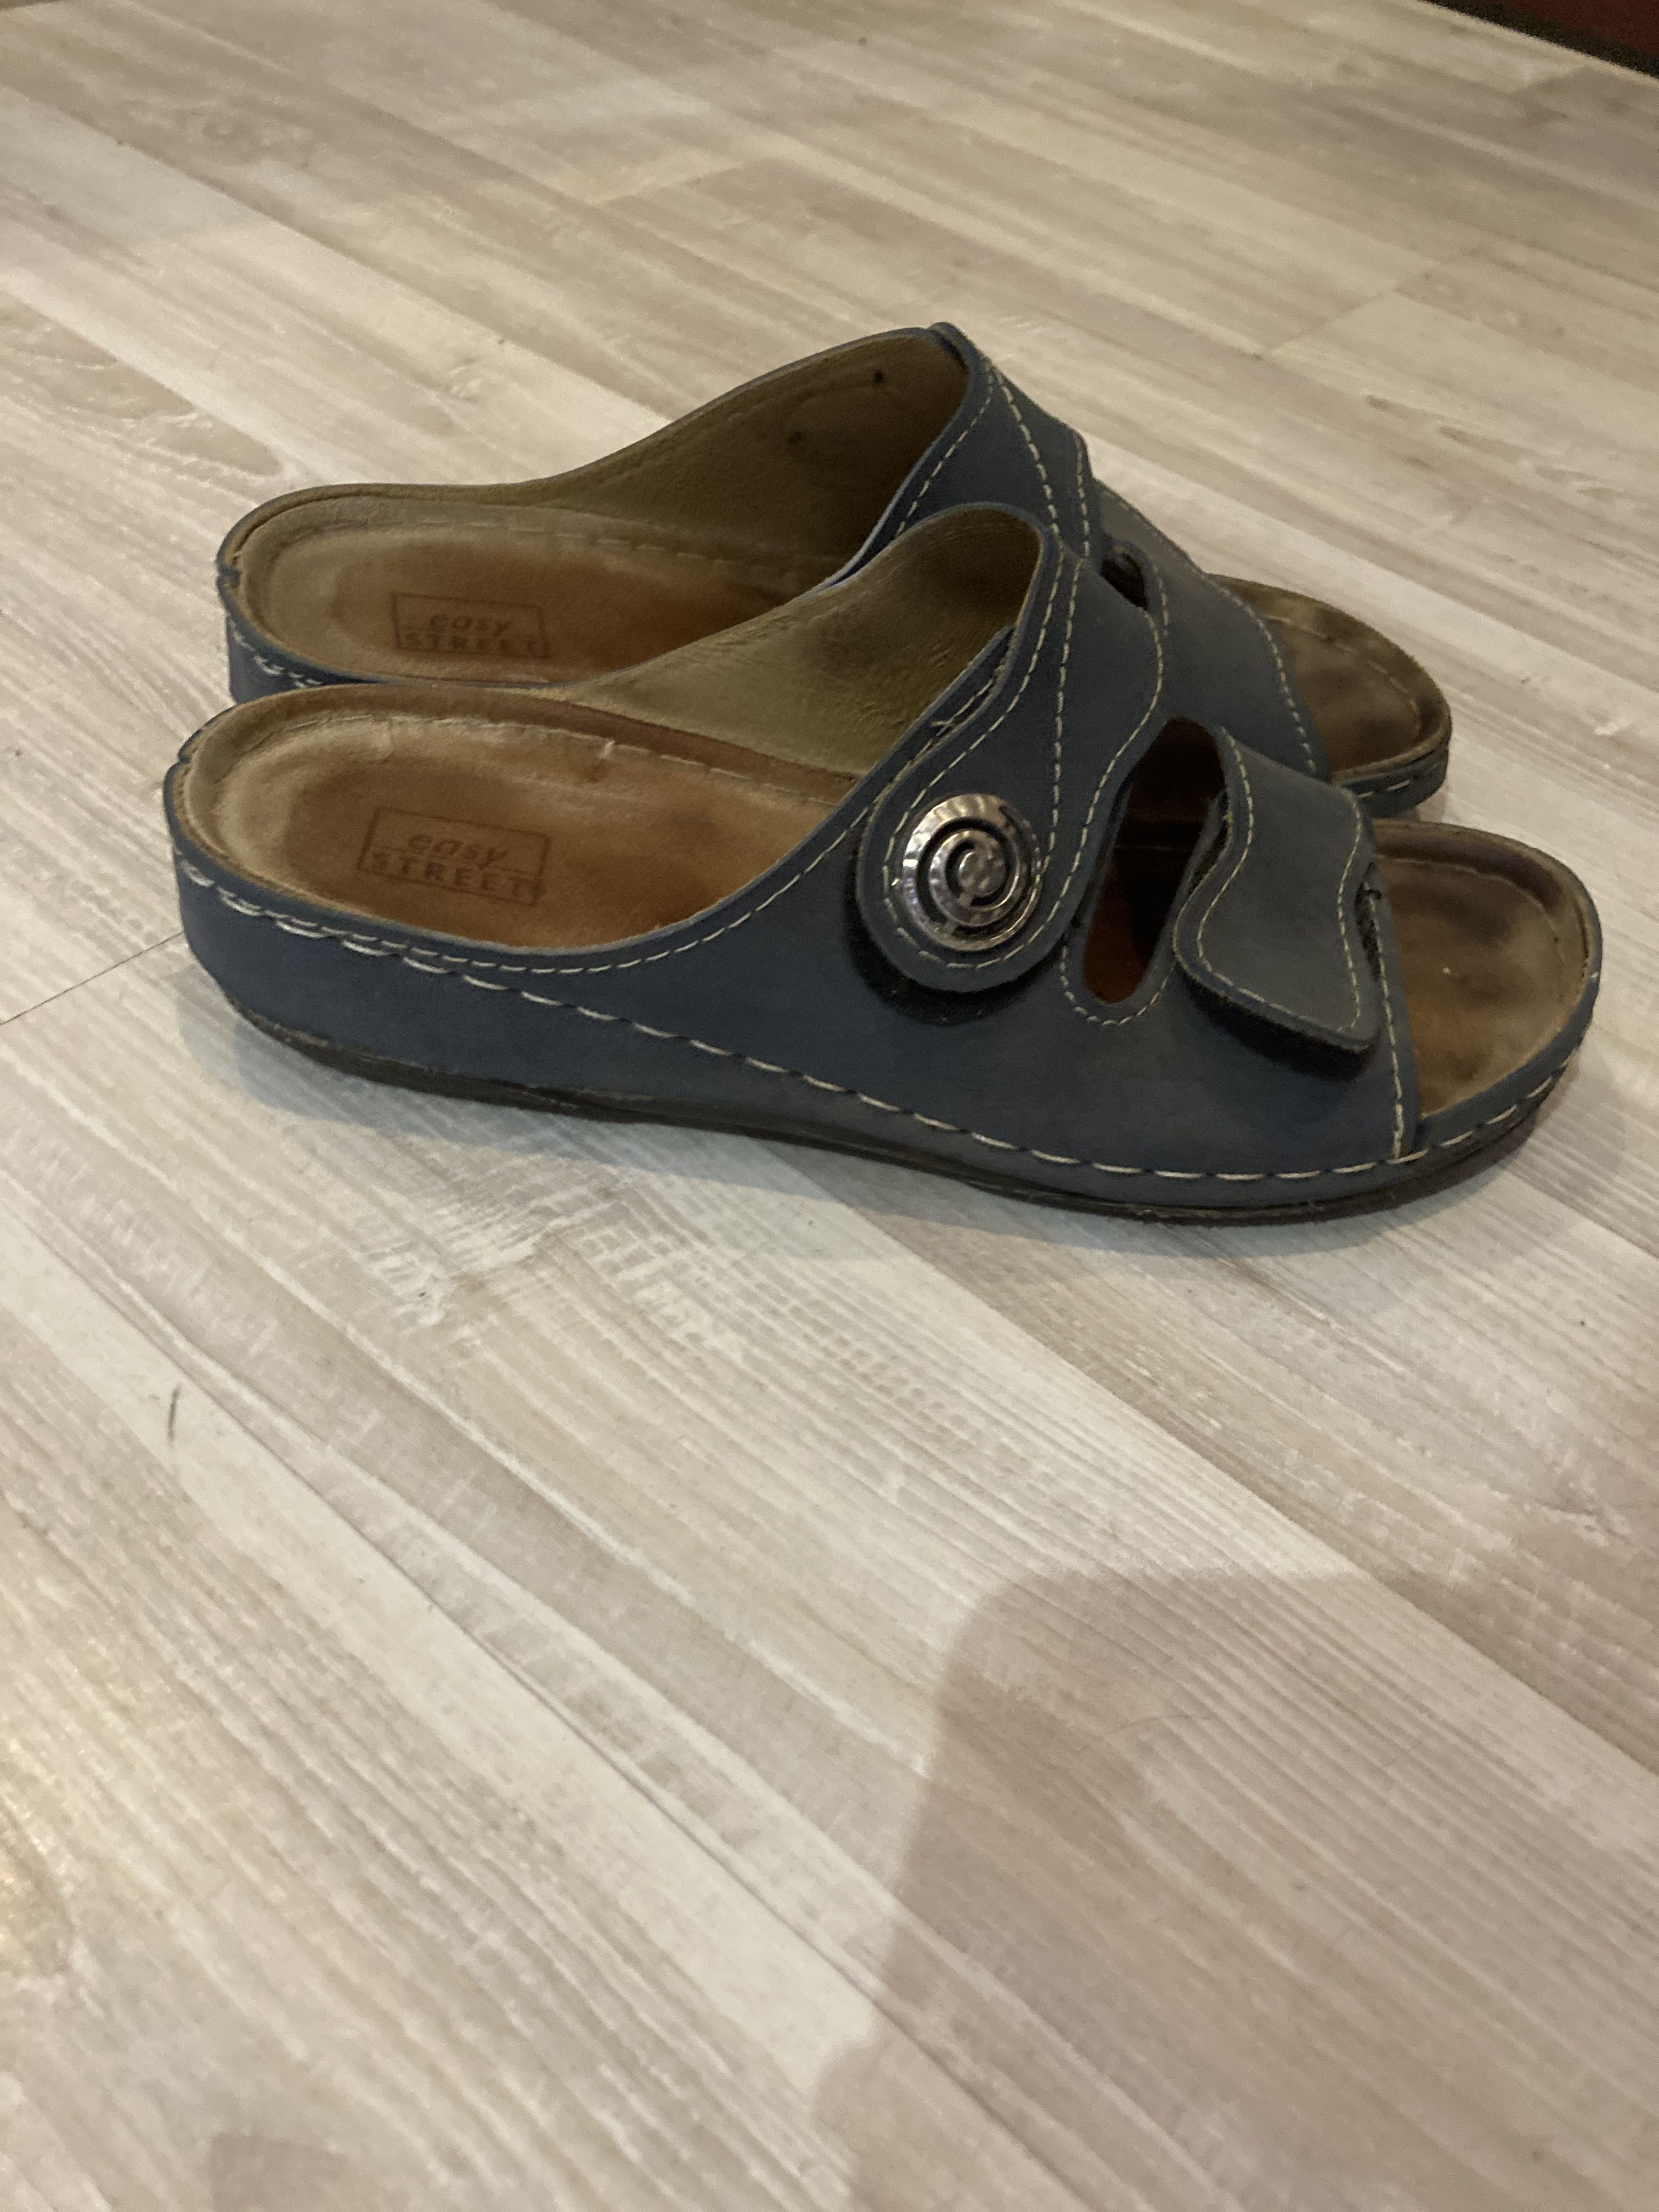clothes: (134, 314, 1624, 1197)
